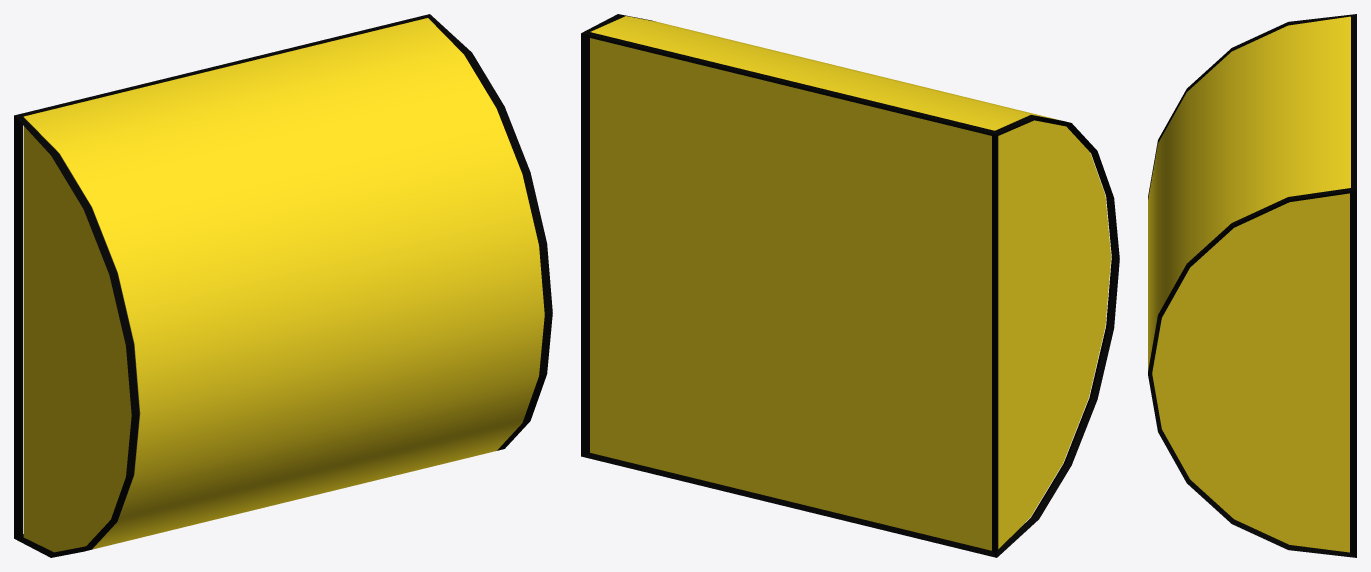
Rendered from semi_cylinder_yellow.obj.
3 renders of one model, left to right at view 1: azimuth 30°, elevation 25°; view 2: azimuth 150°, elevation 25°; view 3: azimuth 270°, elevation 25°, orthographic. The views are drawn at different scales.
Visible parts, largest first — view 1: semi_cylinder, semi_cylinder.001; view 2: semi_cylinder, semi_cylinder.001; view 3: semi_cylinder, semi_cylinder.001.
Boxes of the visible parts, x1,y1,x2,y2 form: semi_cylinder: [23, 18, 544, 552]; semi_cylinder.001: [14, 14, 552, 557]; semi_cylinder: [590, 16, 1111, 550]; semi_cylinder.001: [581, 14, 1119, 557]; semi_cylinder: [1148, 16, 1350, 552]; semi_cylinder.001: [1148, 14, 1356, 557].
Size of the model in its own units: 0.0521 by 0.05 by 0.0257.
